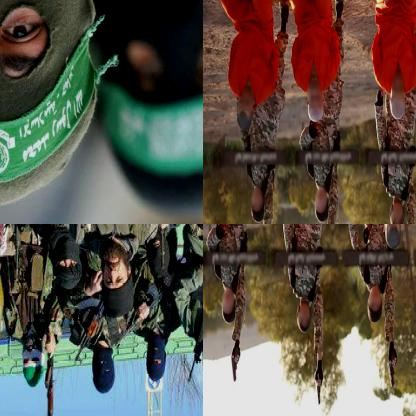pistol: (230, 346, 242, 386), (312, 369, 324, 405), (386, 350, 398, 386)
rifle: (120, 280, 168, 336), (69, 294, 105, 366)
